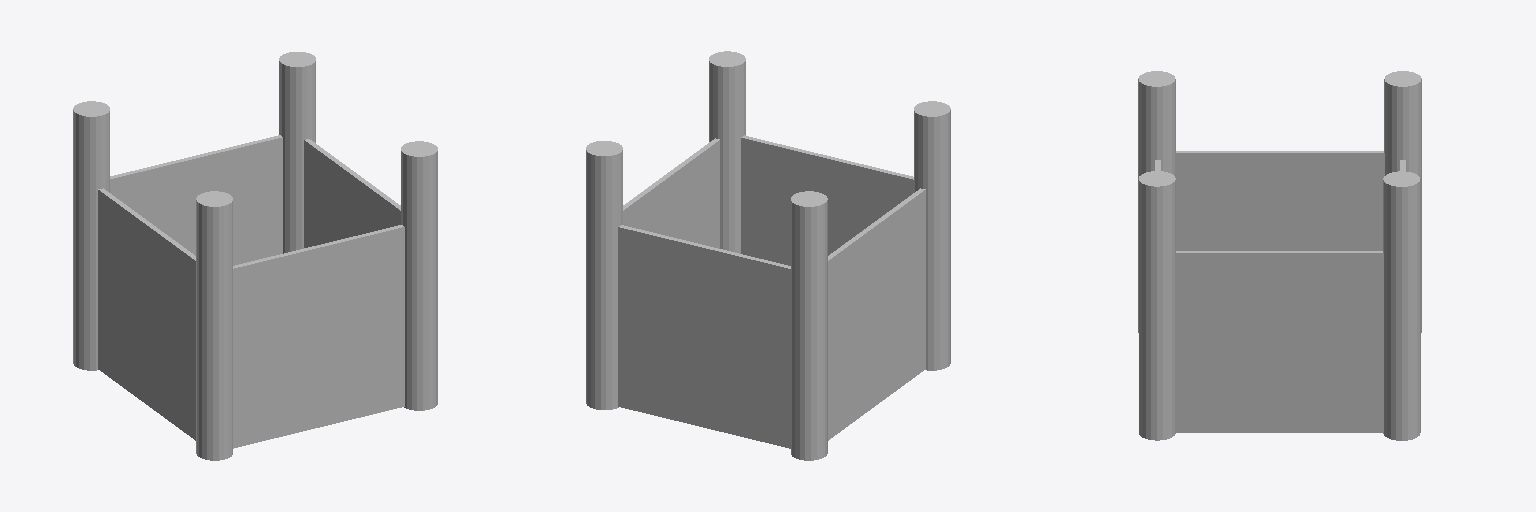
File: walldouble17.obj
3 views of the same model, side by side, from view 1: azimuth 30°, elevation 25°; view 2: azimuth 150°, elevation 25°; view 3: azimuth 270°, elevation 25° (orthographic).
Parts seen in each view (by area): view 1: walldouble17; view 2: walldouble17; view 3: walldouble17.
Boxes of the visible parts, x1=… form: walldouble17: x1=73, y1=52, x2=437, y2=460; walldouble17: x1=586, y1=51, x2=950, y2=460; walldouble17: x1=1138, y1=71, x2=1421, y2=440.
Bounding box in the file's own units: 24.11 × 24.63 × 24.91.